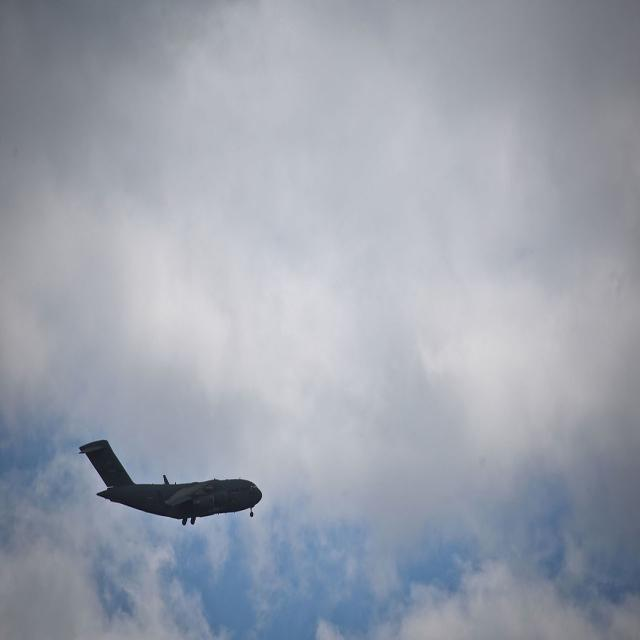MIL_Plane: (78, 55, 262, 141)
